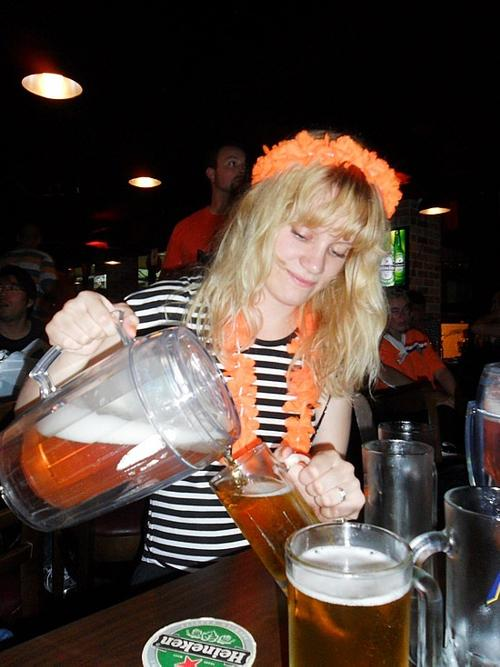person: (13, 132, 402, 594)
